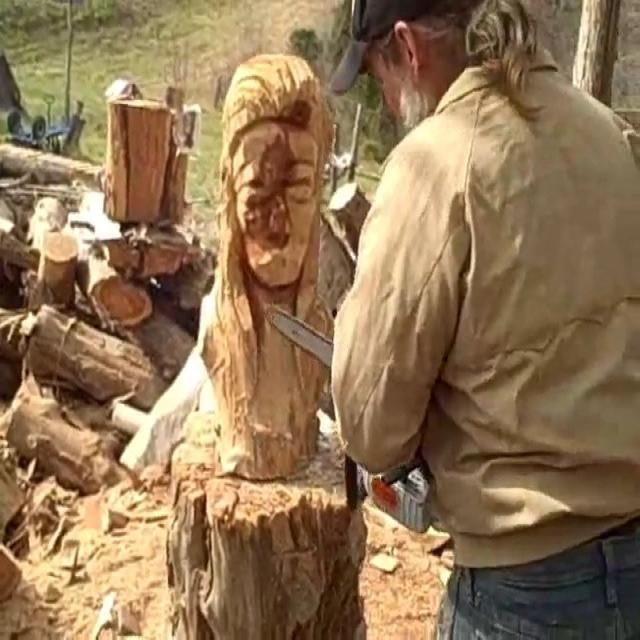Chainsaw: (248, 292, 444, 537)
